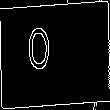O_S: (43, 28, 67, 82)
